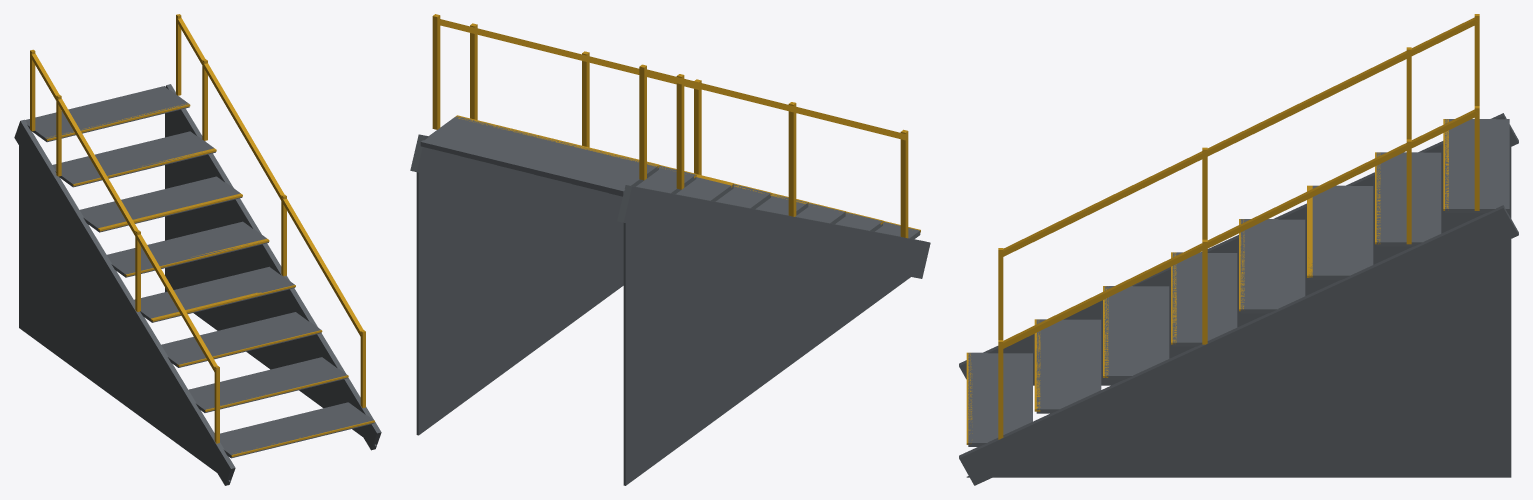
Rendered from gs-container-stair.glb.
3 renders of one model, left to right at view 1: azimuth 30°, elevation 25°; view 2: azimuth 150°, elevation 25°; view 3: azimuth 270°, elevation 25°, orthographic. The views are drawn at different scales.
Parts seen in each view (by area): view 1: gs-container-stair; view 2: gs-container-stair; view 3: gs-container-stair.
Part boxes in pixels (x1,y1,x2,y2): gs-container-stair: (14, 14, 381, 485); gs-container-stair: (410, 14, 930, 485); gs-container-stair: (959, 14, 1518, 485).
Size of the model in its own units: 1.98 by 3.67 by 4.94.
